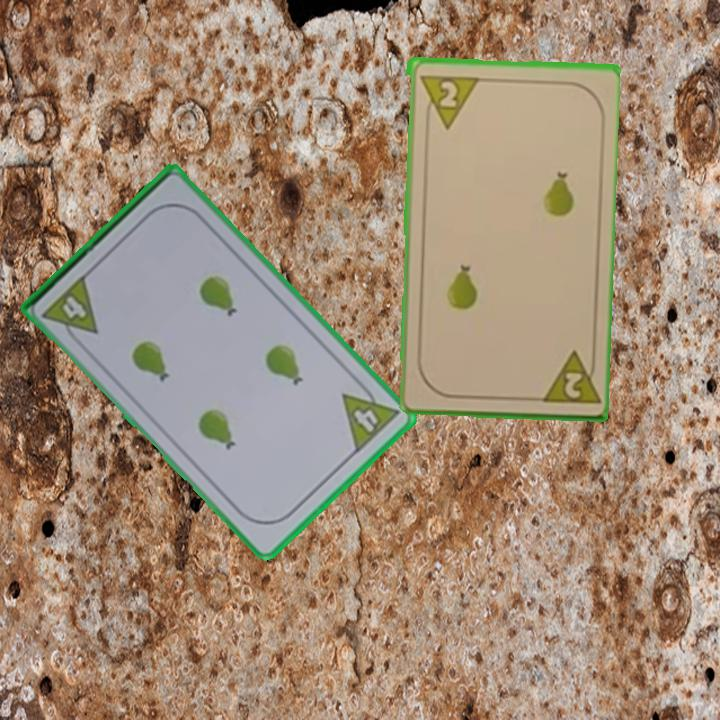2p: (415, 70, 479, 131), (560, 368, 584, 402)
4p: (338, 376, 403, 457), (39, 271, 102, 349)
